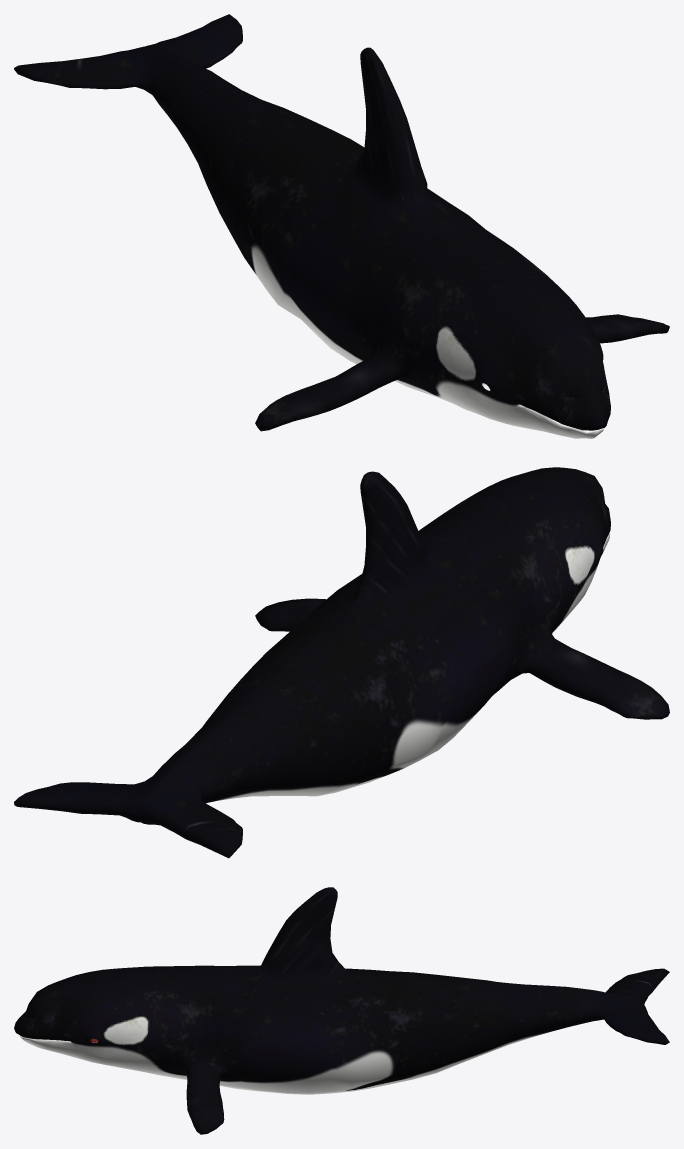
File: fish4.obj
3 renders of one model, top to bottom at view 1: azimuth 30°, elevation 25°; view 2: azimuth 150°, elevation 25°; view 3: azimuth 270°, elevation 25°, orthographic. The views are drawn at different scales.
Visible parts, largest first — view 1: yushen hujing_Blend hujing_Group; view 2: yushen hujing_Blend hujing_Group; view 3: yushen hujing_Blend hujing_Group.
Boxes of the visible parts, x1,y1,x2,y2 form: yushen hujing_Blend hujing_Group: (14,14,669,438); yushen hujing_Blend hujing_Group: (14,467,669,858); yushen hujing_Blend hujing_Group: (14,887,669,1134).
Bounding box in the file's own units: 6.74 × 4.59 × 13.65.
